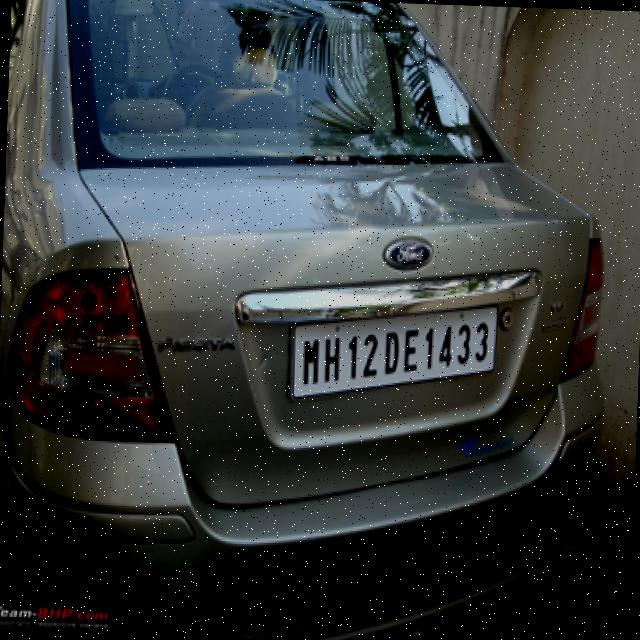Autre: (290, 310, 502, 401)
